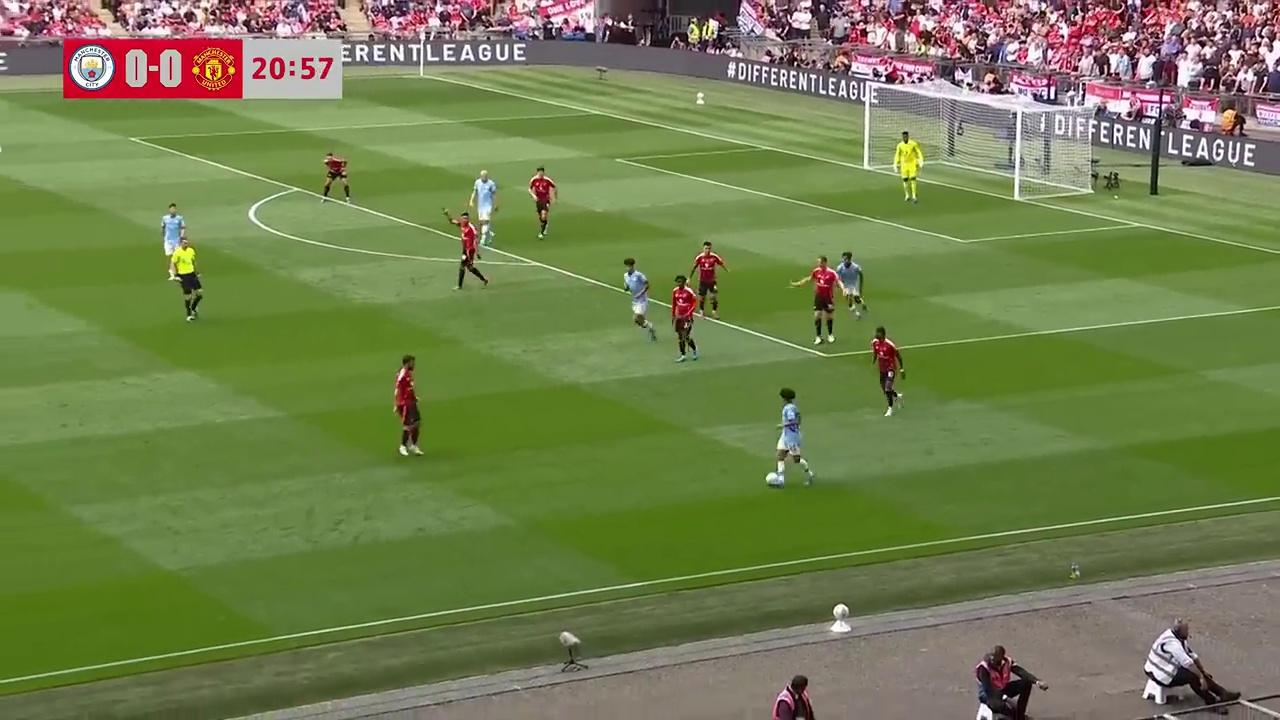ball: (765, 470, 781, 485)
player: (764, 388, 815, 488), (790, 254, 840, 347), (870, 325, 905, 417), (393, 355, 424, 457), (690, 240, 729, 319), (453, 211, 490, 289), (625, 259, 658, 342), (669, 276, 699, 363), (836, 250, 868, 316), (528, 166, 557, 238), (894, 131, 922, 202), (469, 168, 497, 239), (160, 202, 185, 277), (321, 150, 352, 204)
referee: (174, 240, 203, 321)
